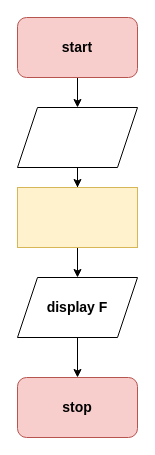
Image size: 155x455. Some labels were removed from this diagram. The shapes that lost their labels are listed below. From the top down, each one's centre as x and y in pixels, then its label:
the point at 77,137: input C
the point at 77,217: F= (9/5)*C + 32
